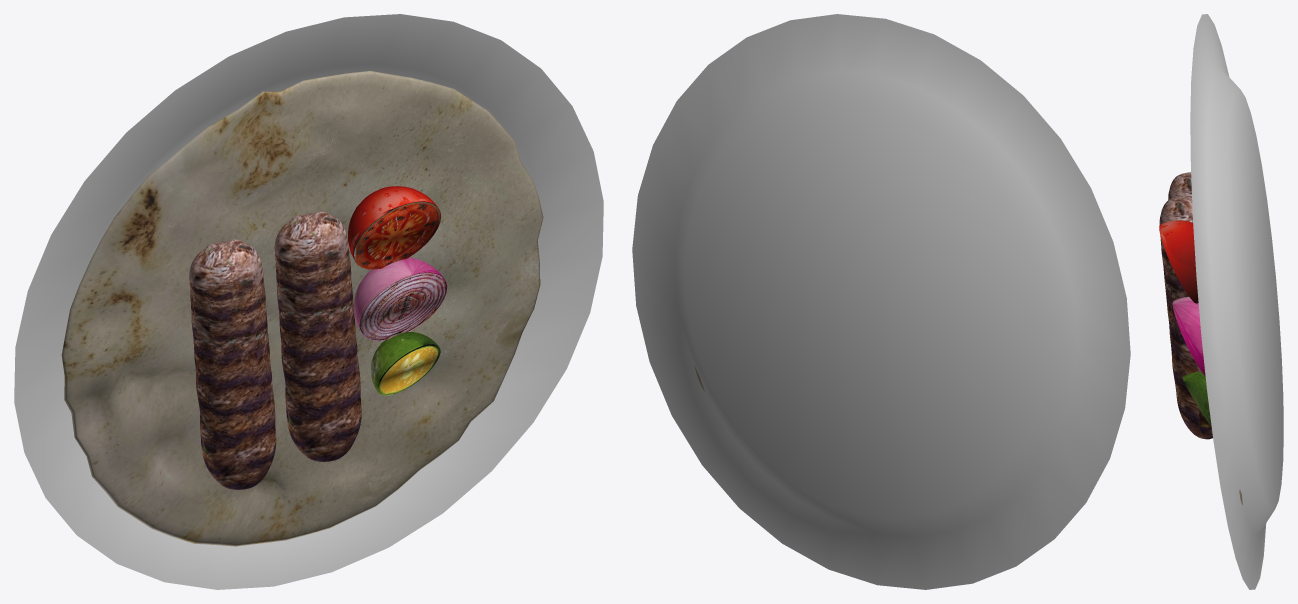
Rendered from kababkhubz-v11.glb.
The picture shows the model from 3 angles, left to right: view 1: azimuth 30°, elevation 25°; view 2: azimuth 150°, elevation 25°; view 3: azimuth 270°, elevation 25°; orthographic projection. The views are drawn at different scales.
Parts seen in each view (by area): view 1: Cylinder.001, Circle.001, Cylinder.003, Cylinder.002, Sphere.002, Sphere.005, Sphere.006, Sphere.001, Sphere.004, Sphere.003; view 2: Circle.001; view 3: Circle.001, Cylinder.003, Sphere.006, Sphere.001, Sphere.003, Cylinder.002.
Part boxes in pixels (x1,y1,x2,y2): Cylinder.001: (61,71,543,546); Circle.001: (14,14,603,589); Cylinder.003: (274,211,361,461); Cylinder.002: (189,239,276,489); Sphere.002: (359,272,446,340); Sphere.005: (353,201,440,269); Sphere.006: (348,186,440,269); Sphere.001: (354,257,446,340); Sphere.004: (377,344,438,394); Sphere.003: (370,332,440,395); Circle.001: (632,14,1130,589); Circle.001: (1190,14,1283,589); Cylinder.003: (1159,195,1212,439); Sphere.006: (1159,220,1198,303); Sphere.001: (1172,297,1205,375); Sphere.003: (1182,372,1211,426); Cylinder.002: (1168,172,1191,199).
Bounding box in the file's own units: 8.72 × 8.64 × 1.87.
10 materials, 9 textured.
